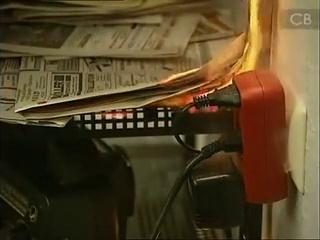Fire: (154, 1, 264, 119)
